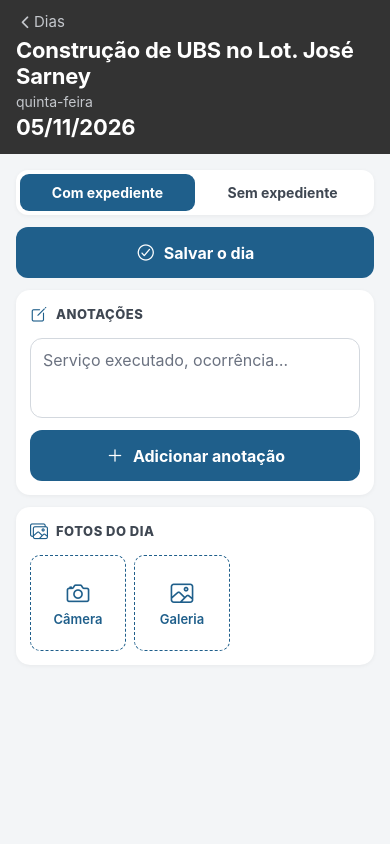
Test case: RegistroDiaTela — anotações por autor › adiciona anotação com autor e hora e limpa o campo
The width and height of the screenshot is (390, 844).
Type "Reboco interno" into the text box with test id "nova-anotacao".
click(195, 378); type("Reboco interno")  # box [30,338,360,418]
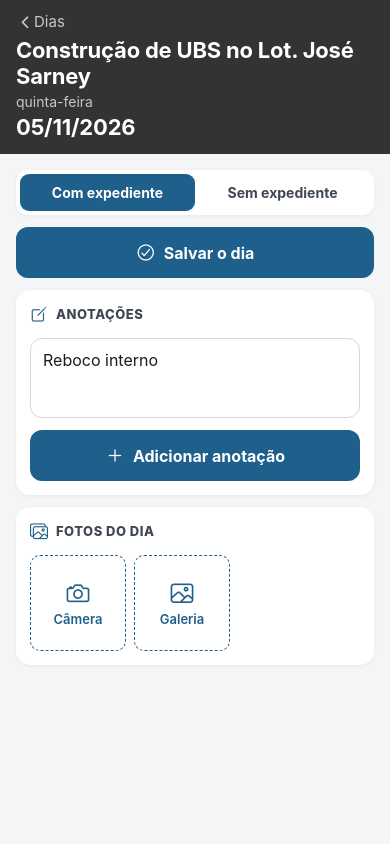
Click the element with test id "adicionar-anotacao".
click(195, 456)  # box [30,430,360,481]
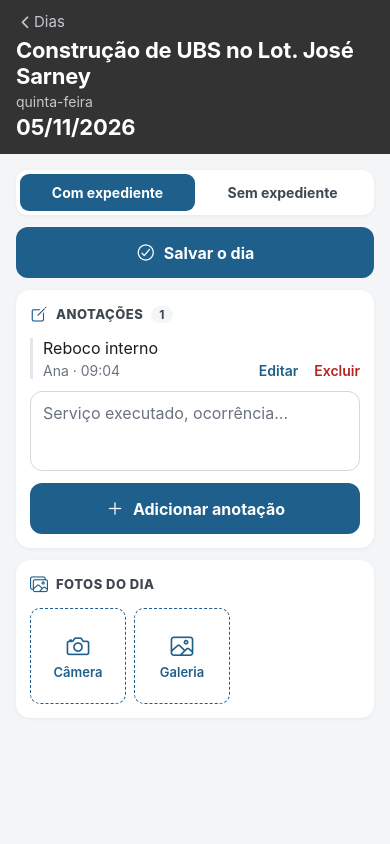
Result: the text "Reboco interno" is shown at [43,338,158,358]
Result: the text with test id "anotacao-autor" reads "Ana · 09:04" at [43,362,120,379]
Result: the text box with test id "nova-anotacao" is empty at [30,391,360,471]
